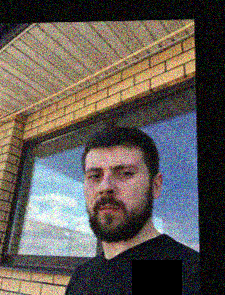without_mask: (81, 156, 152, 243)
